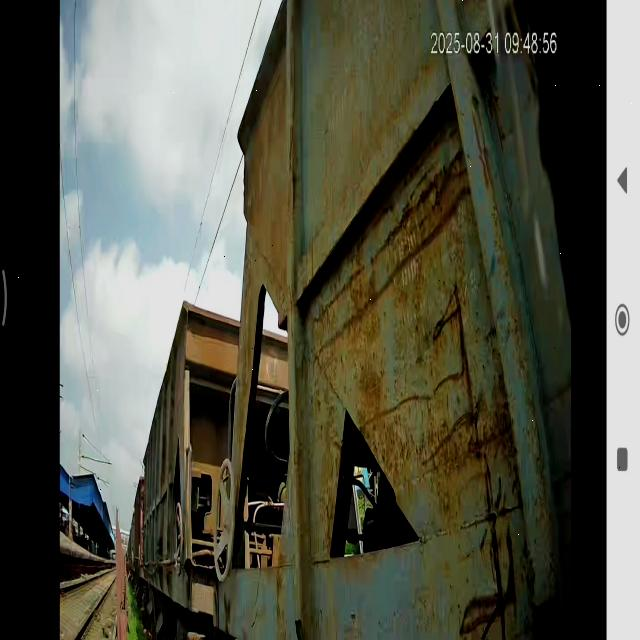joint: (134, 0, 345, 640)
